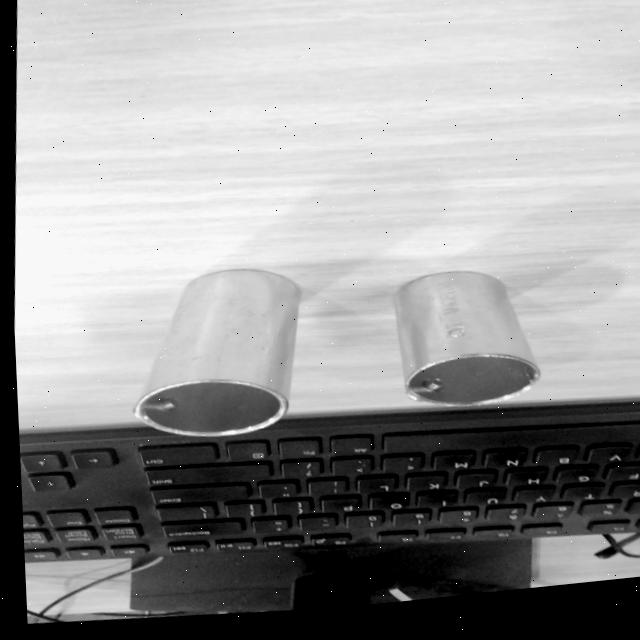Co_Lon: (132, 258, 302, 445)
Co_Nho: (390, 261, 542, 414)
